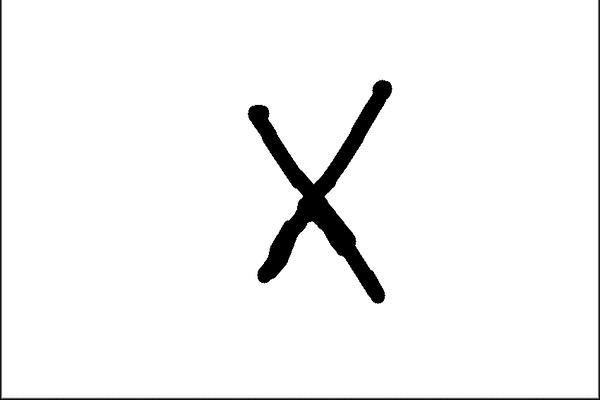X: (229, 65, 415, 322)
